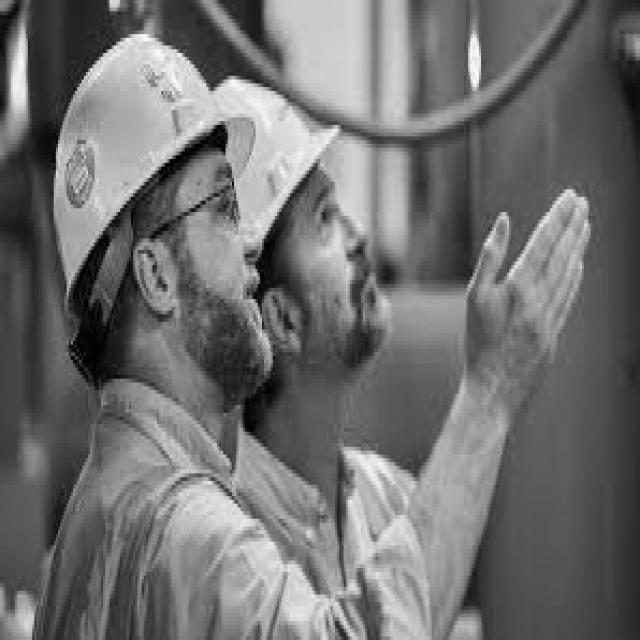safety_helmet: (52, 34, 337, 390)
